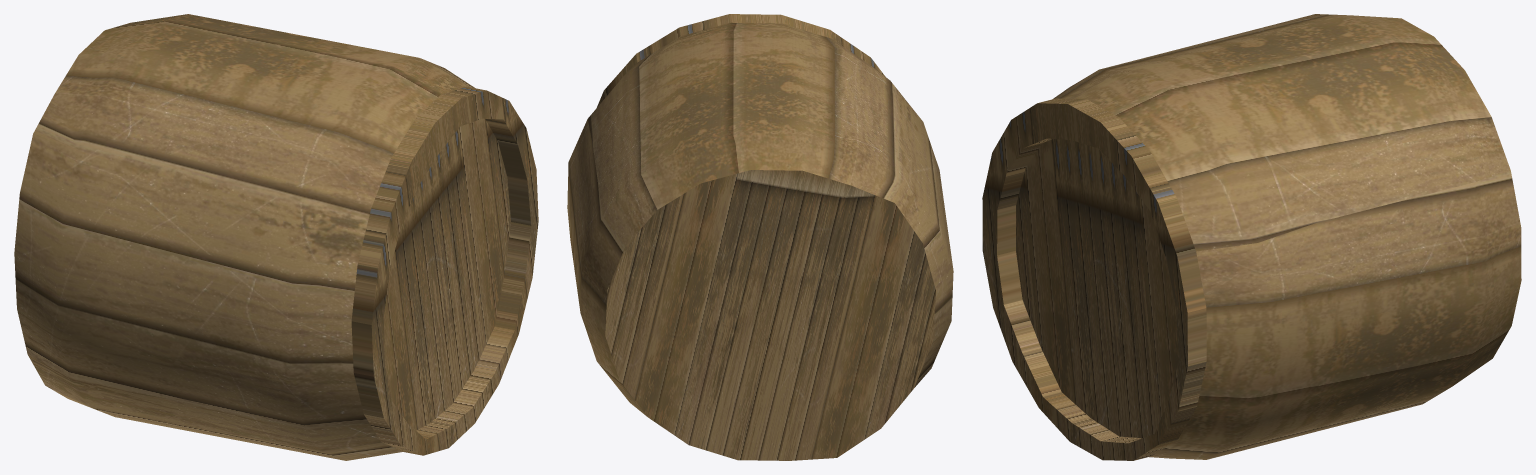
The model's file is barrel.fbx.
The picture shows the model from 3 angles, left to right: view 1: azimuth 30°, elevation 25°; view 2: azimuth 150°, elevation 25°; view 3: azimuth 270°, elevation 25°; orthographic projection. The views are drawn at different scales.
Parts seen in each view (by area): view 1: pCylinder2; view 2: pCylinder2; view 3: pCylinder2.
Part boxes in pixels (<box>): pCylinder2: <box>14,14,538,460</box>; pCylinder2: <box>567,14,953,460</box>; pCylinder2: <box>982,14,1521,460</box>.
Size of the model in its own units: 1.64 by 1.25 by 1.66.
1 material, 1 textured.
